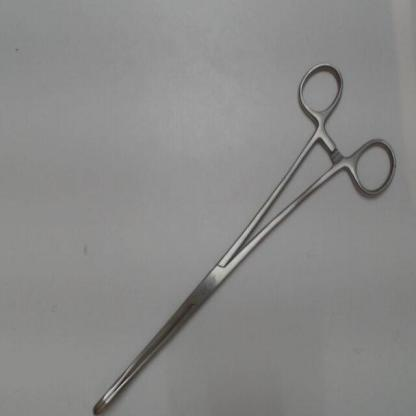Sponge Forceps: (79, 50, 404, 415)
